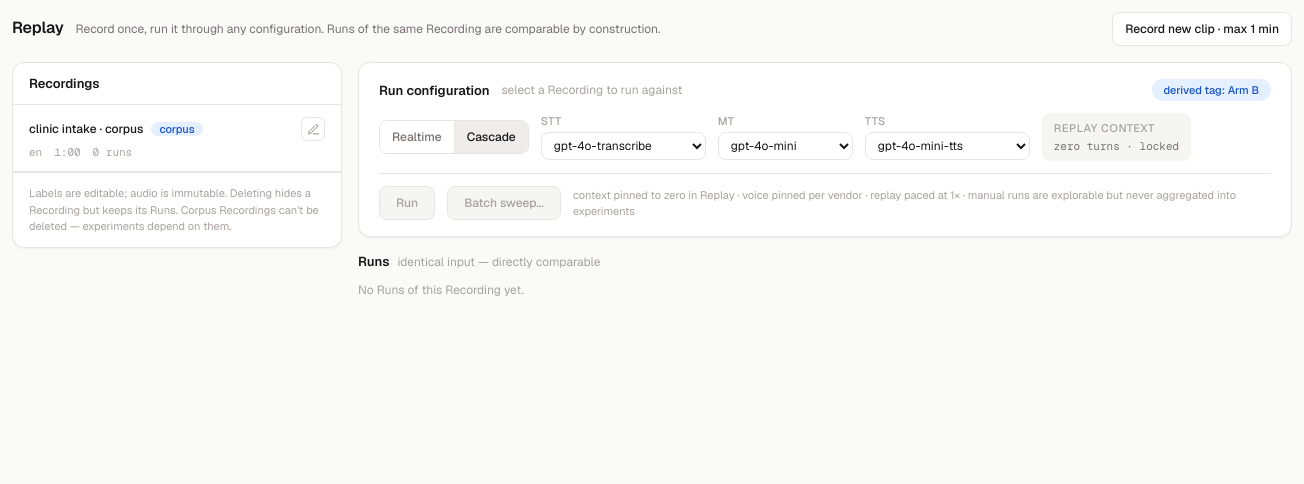
Test case: ReplayView — [data-record-new] opens a real record flow › the record button is enabled and opens [data-record-take]
Expected: the element that starts with "Recordings" is shown, [12,62,342,248]
Click the button "Record new clip · max 1 min".
click(1202, 29)  # box [1112,12,1292,46]
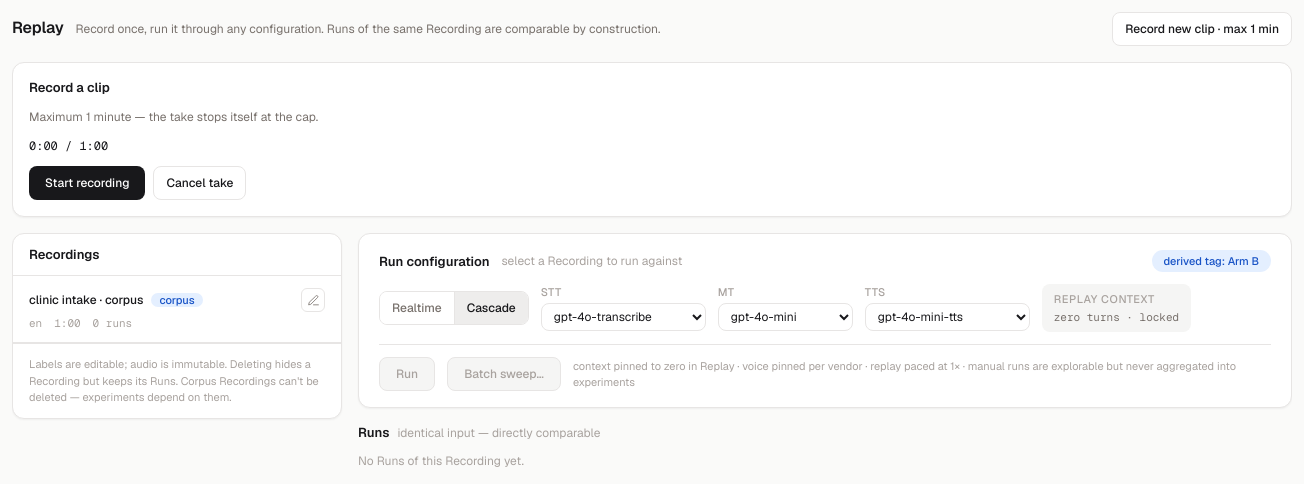
Now the element that starts with "Record a clip" is shown, box [12,62,1292,217]
